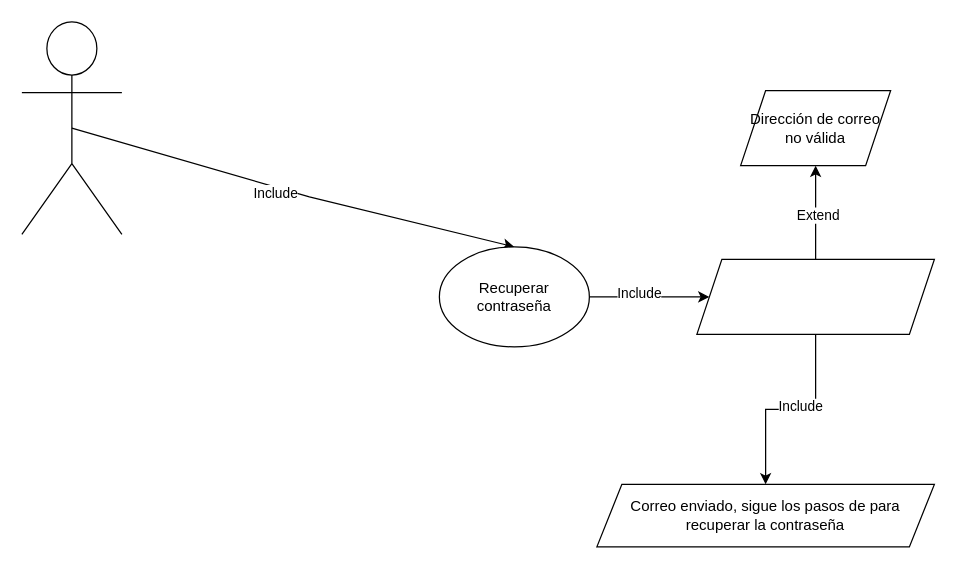
Image size: 956x569. Some labels were removed from this diagram. Here are the shapes that lost their labels. From the top down, the box of each, then its label:
(21, 21, 122, 234): Actor
(696, 258, 934, 334): Ingresar correo
